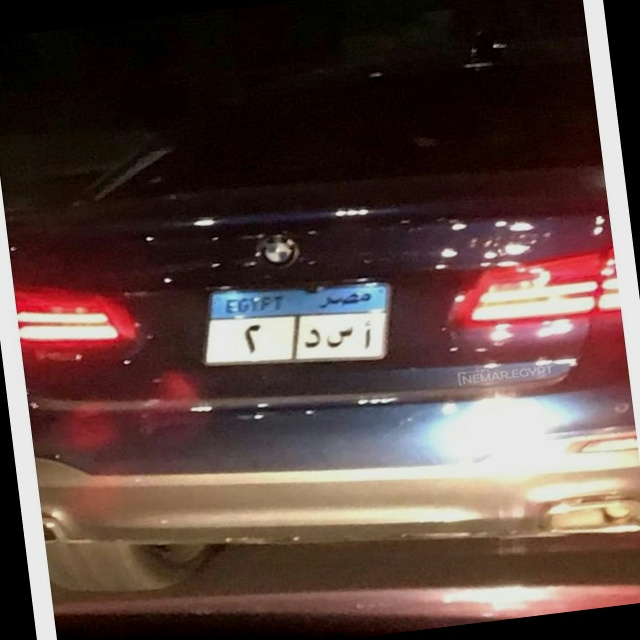License Plate: (187, 267, 403, 384)
